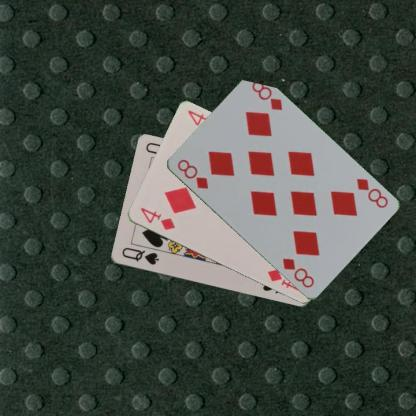4d: (138, 205, 176, 232)
8d: (353, 175, 389, 210), (175, 156, 209, 191)
Qs: (119, 245, 160, 266)
